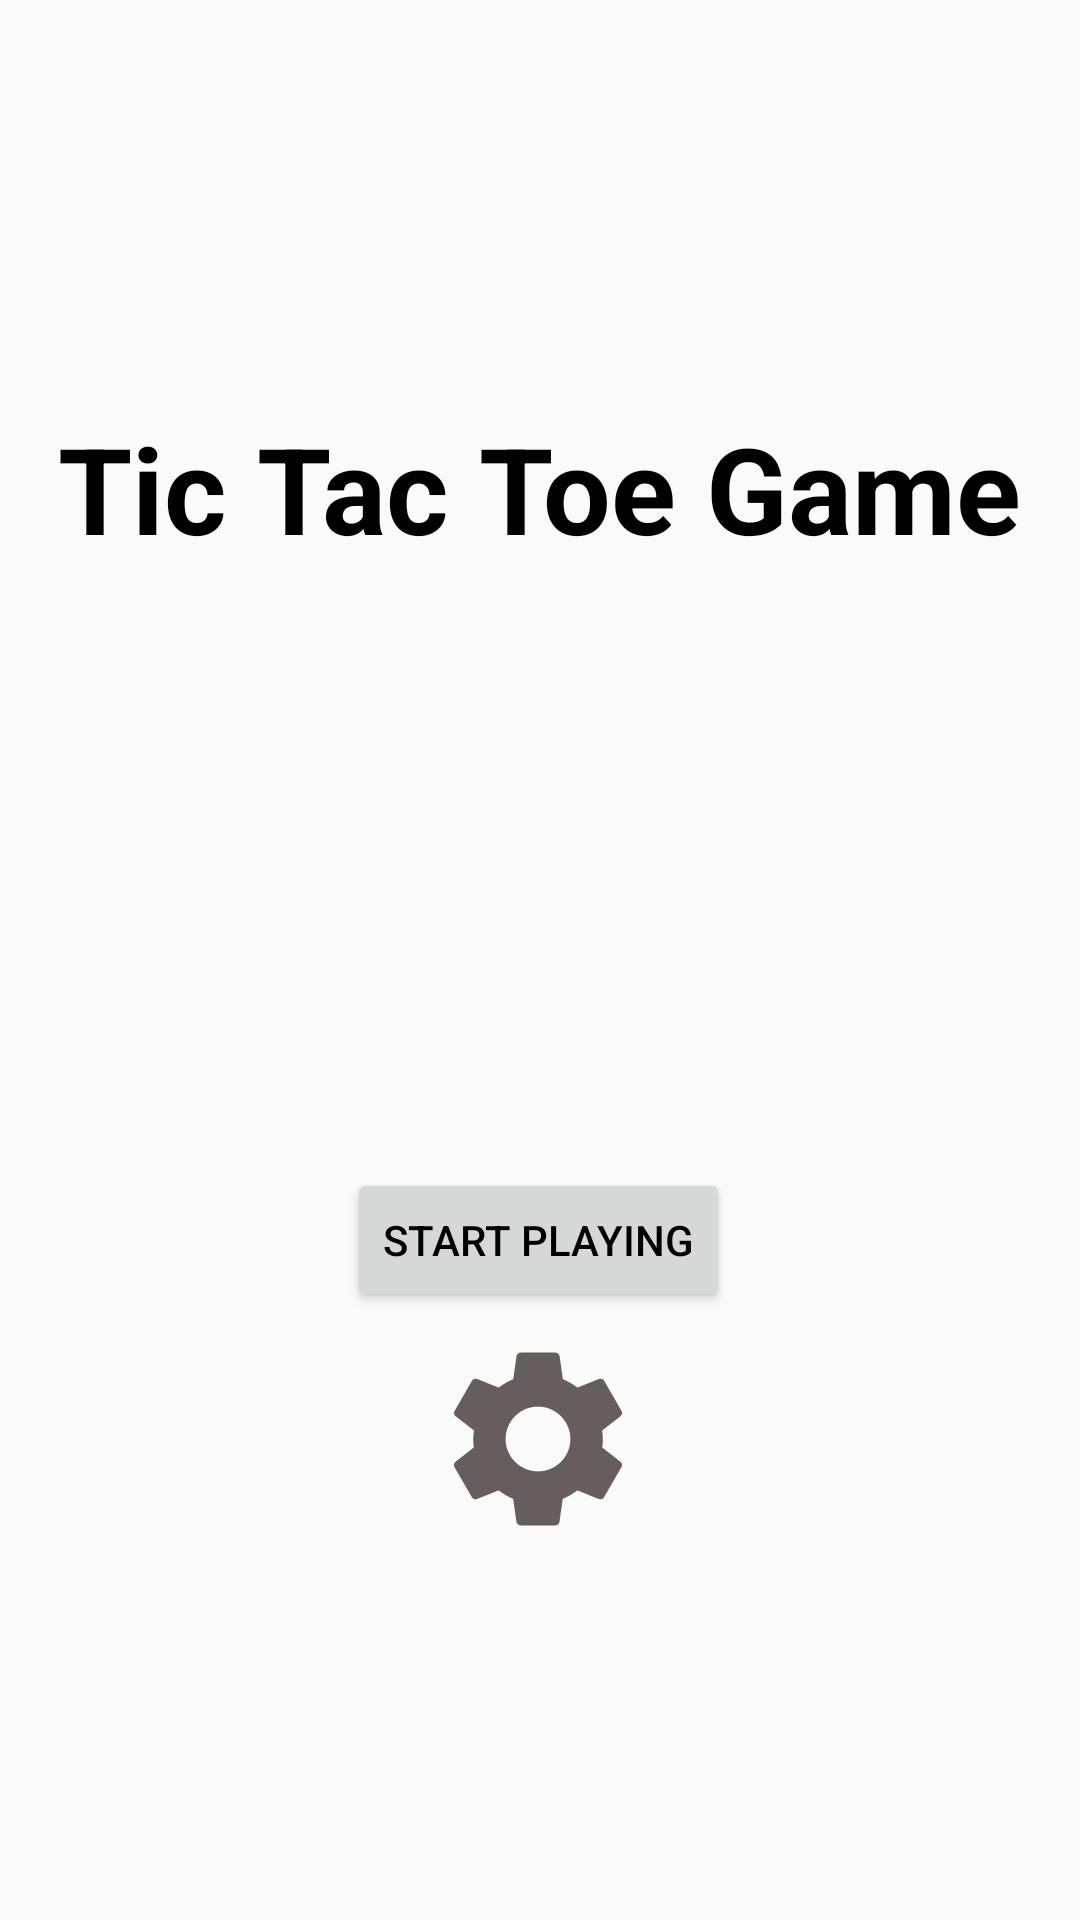

Icon bounding boxes for this 1080×1920 phone screenshot, format {"left": x1, "top": y1, "right": x2, "bottom": y2}:
settings: {"left": 454, "top": 1352, "right": 622, "bottom": 1526}
